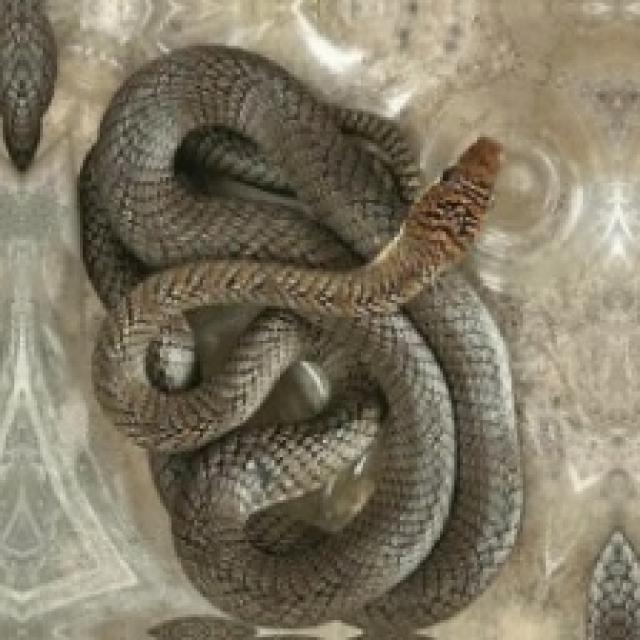paradise tree snake: (80, 46, 520, 623), (0, 0, 54, 166)
